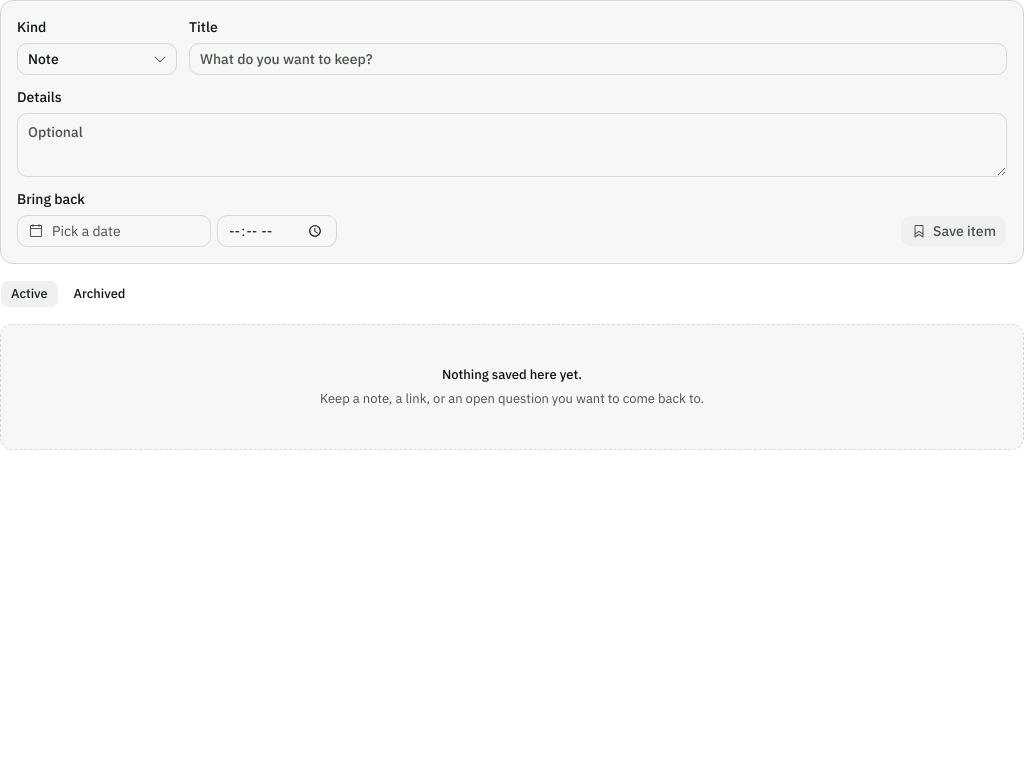
SavedItemsSurface › does not confirm a Saved Item reminder whose selected alert time has passed
Type "Filter measurements" into the field labelled "Title". click: (598, 59)
box: [189, 43, 1007, 75]
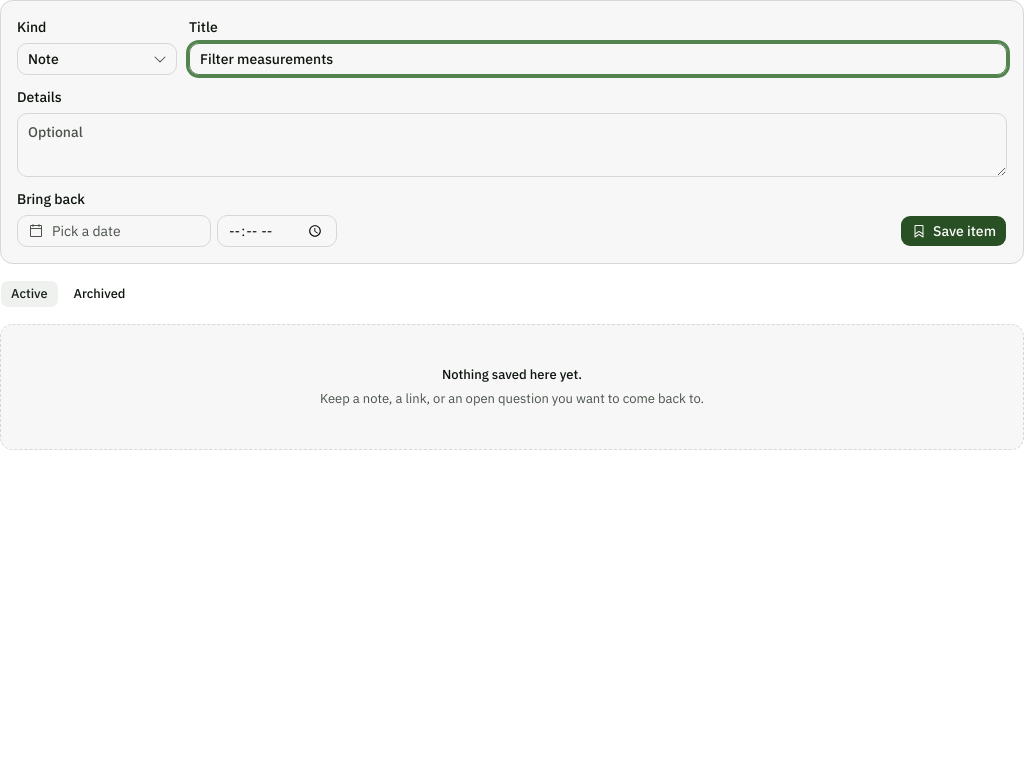
Click the dropdown named "Bring back". click: (114, 231)
box: [17, 215, 211, 247]
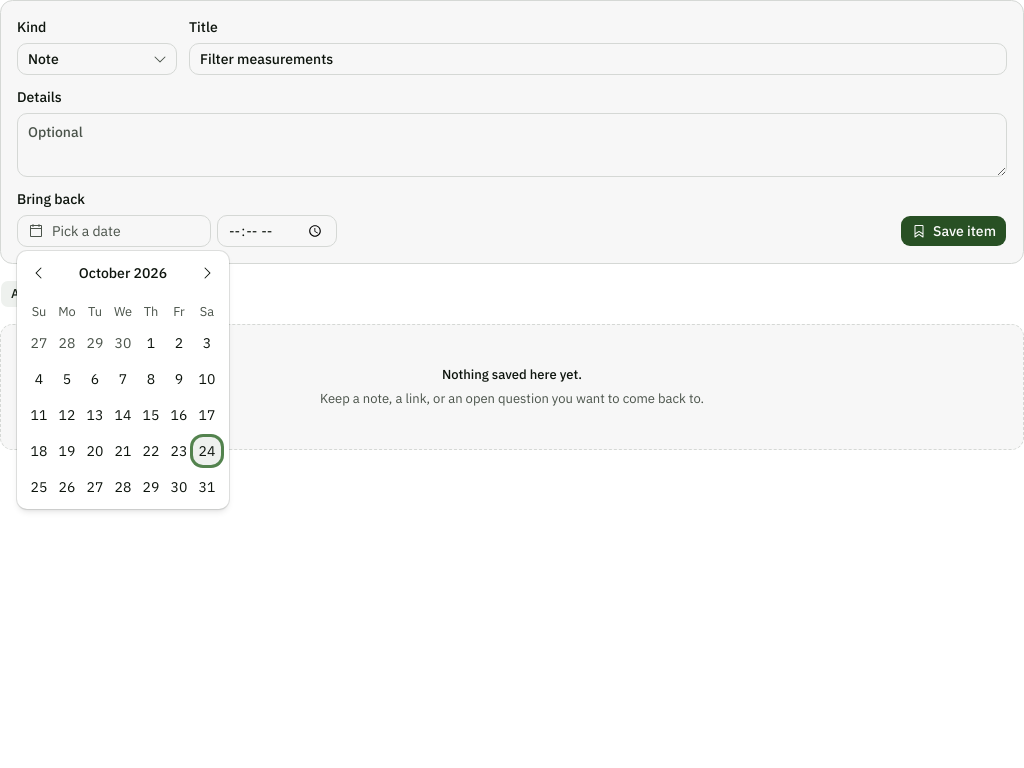
Click the button "21". click: (123, 451)
box: [109, 437, 137, 465]
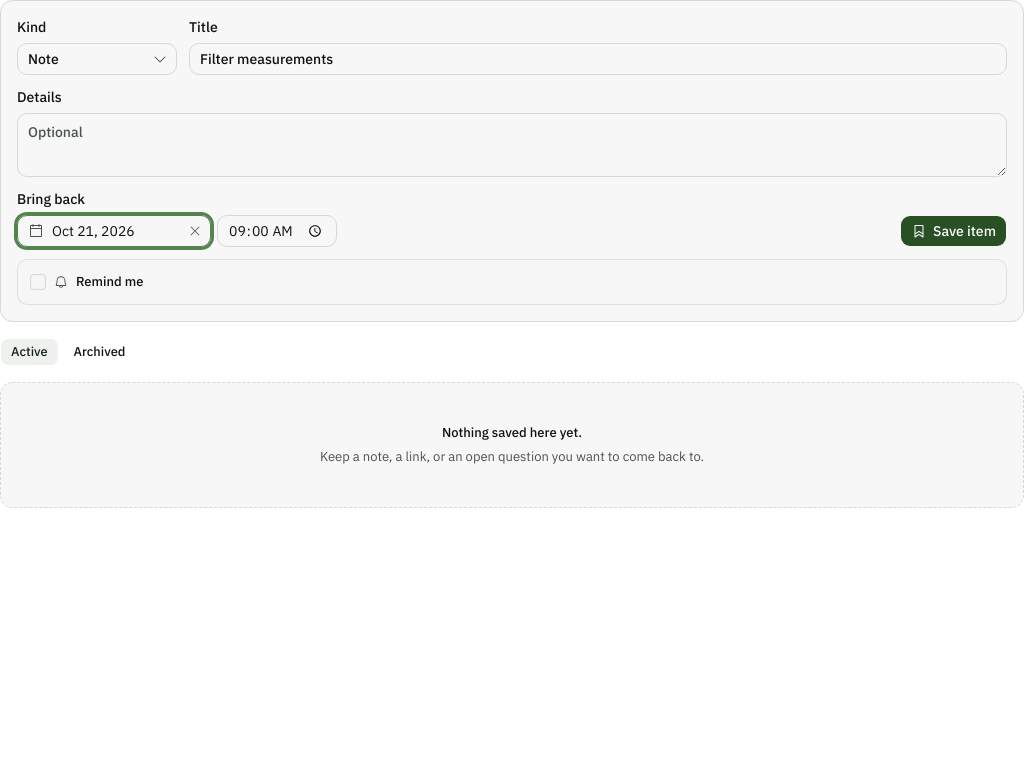
Replace the text in the time field named "Time" with "16:00". click: (277, 231)
box: [217, 215, 337, 247]
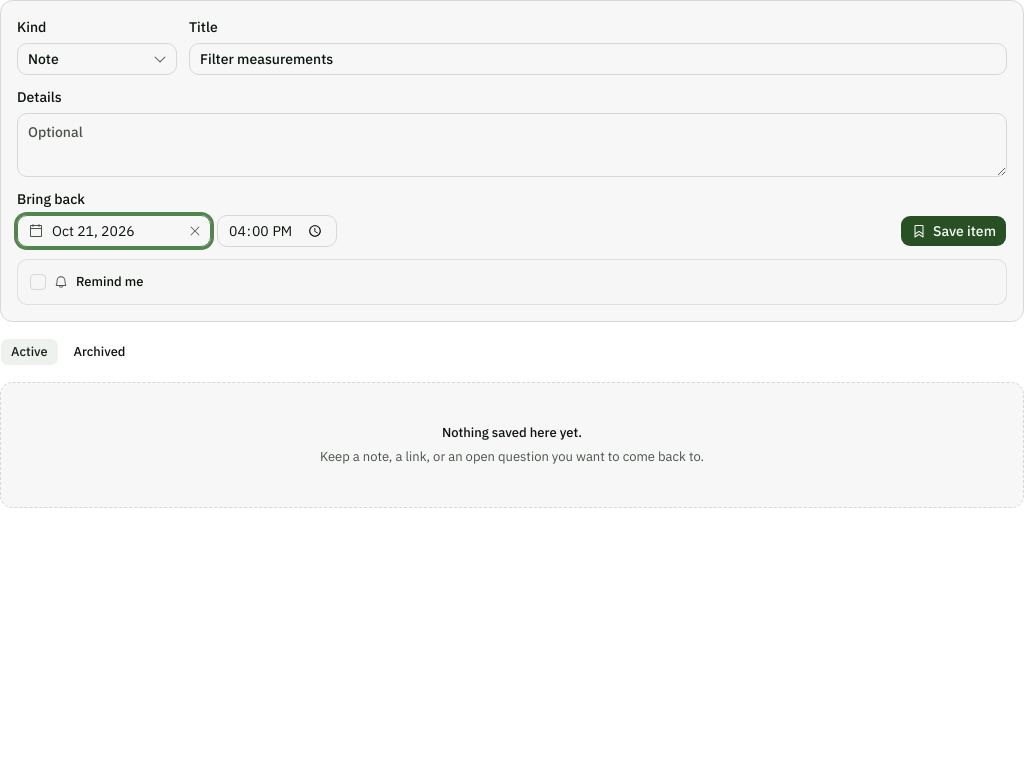
Click the checkbox named "Remind me". click: (38, 282)
box: [30, 274, 46, 290]
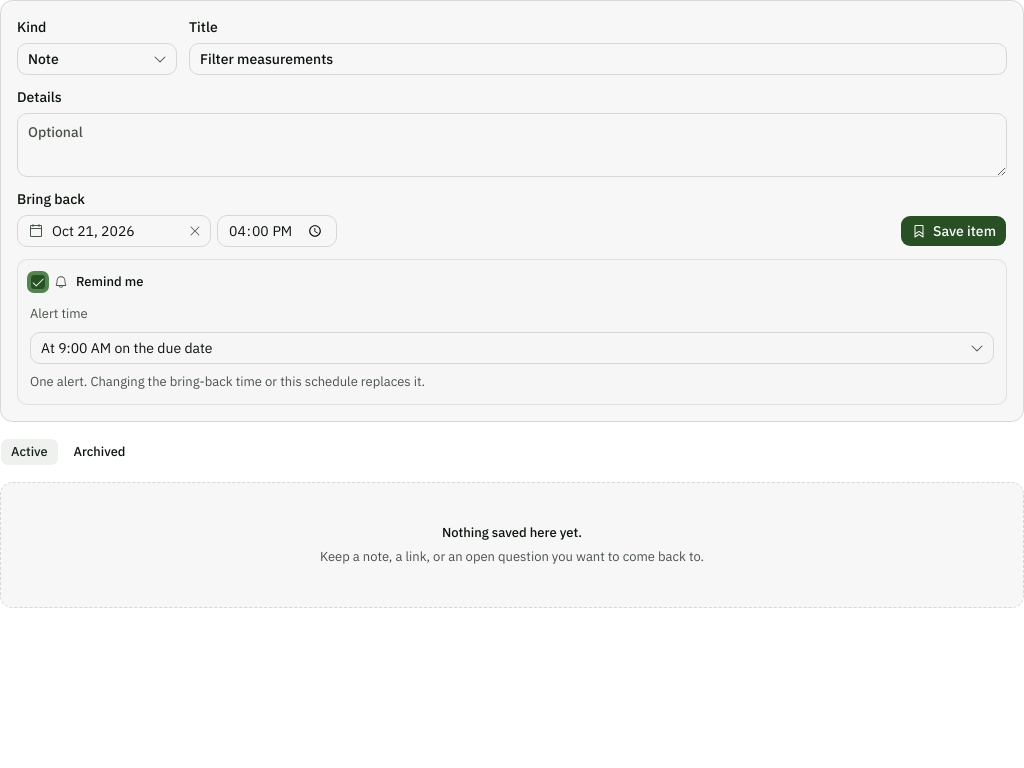
Click the button "Save item". click: (954, 231)
box: [900, 215, 1007, 247]
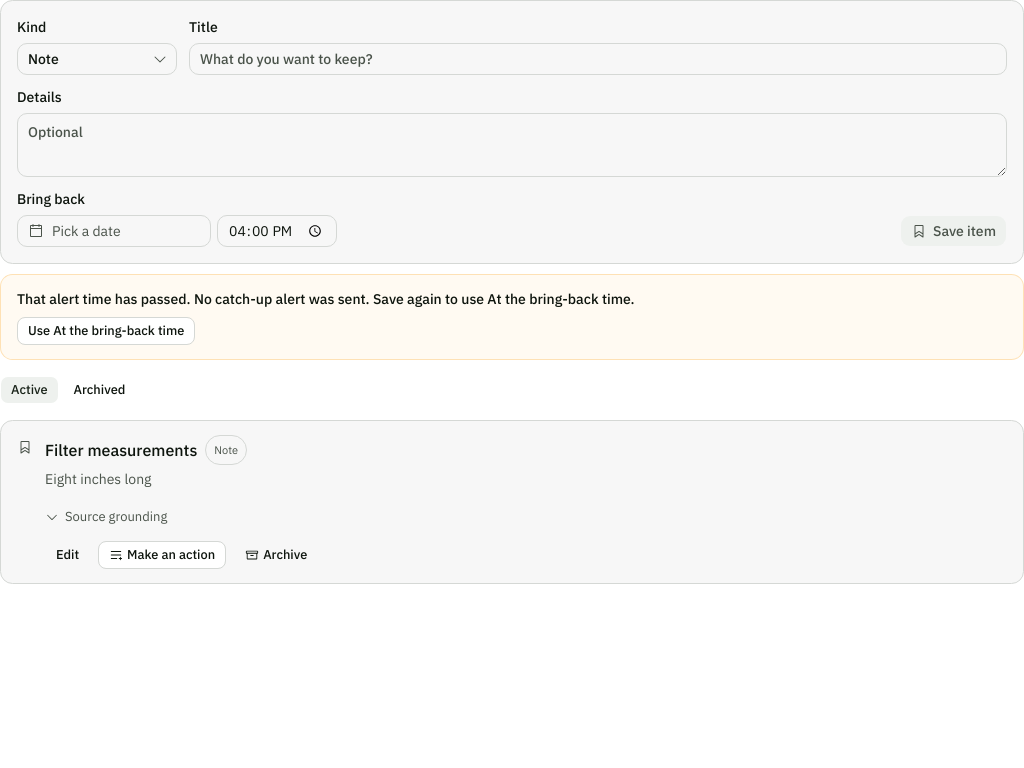
Result: the text "alert time has passed" is shown at [17, 290, 635, 308]
Result: the button "Use At the bring-back time" is shown at [17, 317, 195, 345]
